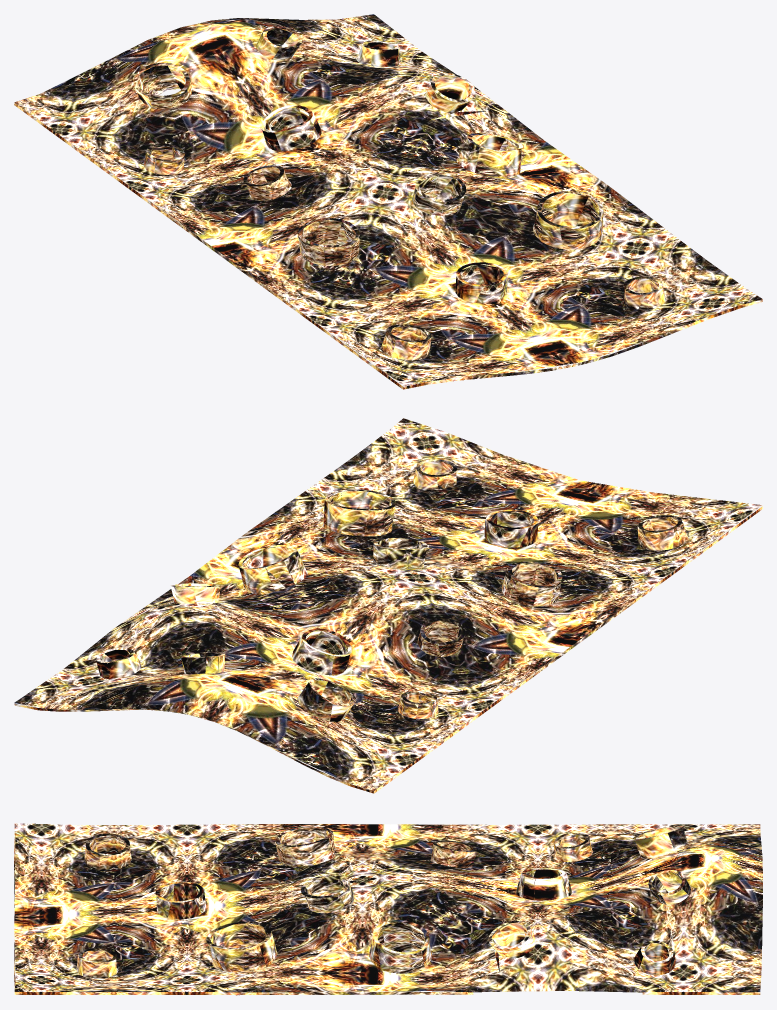
File: spooky-throne-carpet-3-v89.glb
3 renders of one model, top to bottom at view 1: azimuth 30°, elevation 25°; view 2: azimuth 150°, elevation 25°; view 3: azimuth 270°, elevation 25°, orthographic. The views are drawn at different scales.
Parts seen in each view (by area): view 1: spooky-throne-carpet; view 2: spooky-throne-carpet; view 3: spooky-throne-carpet.
Boxes of the visible parts, box(x1,y1,x2,y2) form: spooky-throne-carpet: box(14, 14, 762, 389); spooky-throne-carpet: box(14, 418, 762, 793); spooky-throne-carpet: box(14, 823, 762, 995).
Size of the model in its own units: 3.12 by 0.6929 by 5.87.
Materials: 1 (1 with a texture image).
